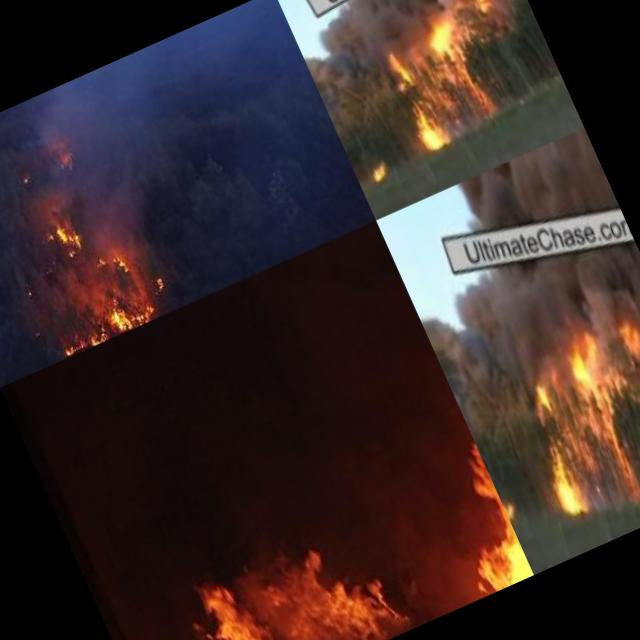fire: (328, 305, 534, 613), (158, 502, 422, 640), (19, 193, 179, 357), (577, 391, 640, 506), (534, 442, 588, 518), (434, 68, 497, 132), (566, 336, 614, 392), (402, 100, 446, 155), (428, 21, 468, 71), (522, 376, 562, 424), (380, 46, 418, 96), (616, 319, 640, 359), (364, 158, 394, 182), (454, 0, 495, 17)
smoke: (20, 57, 190, 254), (438, 264, 570, 399), (303, 0, 467, 74), (534, 244, 638, 345), (623, 270, 640, 367)
